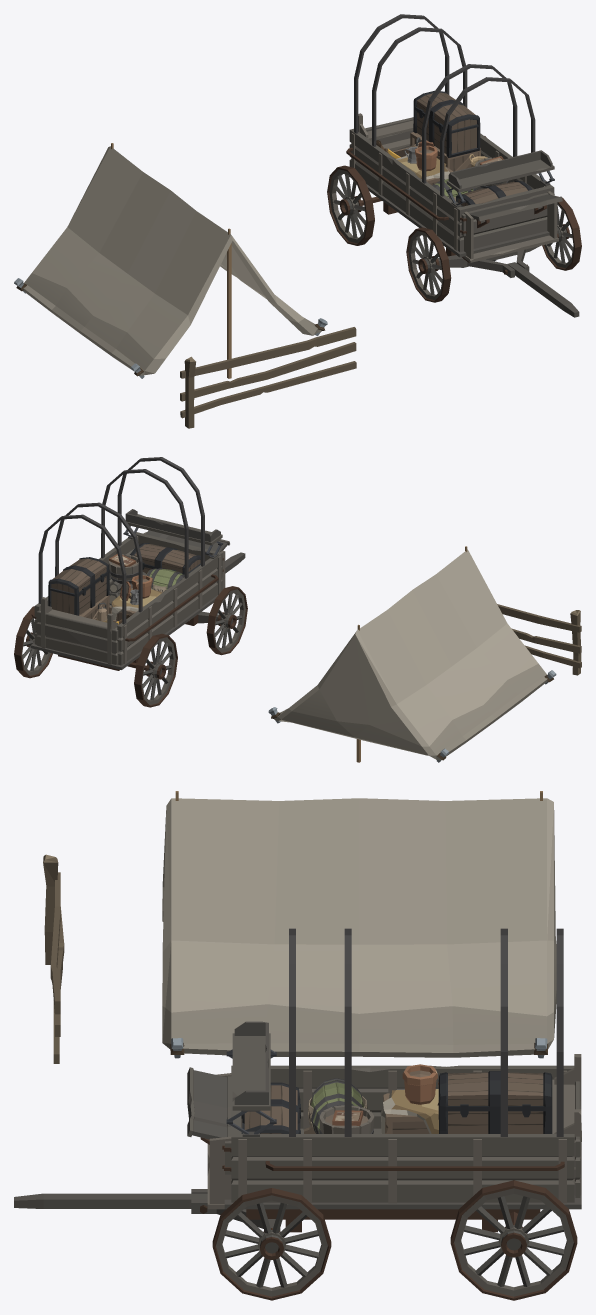
Rendered from stage-original.glb.
3 views of the same model, one above another, from view 1: azimuth 30°, elevation 25°; view 2: azimuth 150°, elevation 25°; view 3: azimuth 270°, elevation 25° (orthographic). The views are drawn at different scales.
Parts seen in each view (by area): view 1: frontier_part_0004_4, frontier_part_0161_161, frontier_part_0165_165, town_part_0021_21, frontier_part_0162_162, frontier_part_0166_166, frontier_part_0163_163, frontier_part_0160_160, frontier_part_0159_159; view 2: frontier_part_0004_4, frontier_part_0161_161, frontier_part_0165_165, frontier_part_0159_159, frontier_part_0162_162, town_part_0021_21, frontier_part_0166_166, frontier_part_0164_164; view 3: frontier_part_0004_4, frontier_part_0161_161, frontier_part_0165_165, frontier_part_0164_164, frontier_part_0160_160, frontier_part_0163_163, town_part_0021_21, frontier_part_0159_159.
Part boxes in pixels (x1,y1,x2,y2): frontier_part_0004_4: (14, 143, 327, 378); frontier_part_0161_161: (346, 14, 562, 262); frontier_part_0165_165: (376, 90, 531, 206); town_part_0021_21: (180, 327, 356, 428); frontier_part_0162_162: (327, 165, 374, 245); frontier_part_0166_166: (406, 227, 451, 302); frontier_part_0163_163: (438, 246, 579, 317); frontier_part_0160_160: (542, 196, 581, 270); frontier_part_0159_159: (358, 113, 413, 151); frontier_part_0004_4: (268, 546, 556, 762); frontier_part_0161_161: (30, 457, 229, 670); frontier_part_0165_165: (48, 543, 200, 640); frontier_part_0159_159: (36, 597, 118, 664); frontier_part_0162_162: (134, 633, 177, 707); town_part_0021_21: (497, 604, 581, 675); frontier_part_0166_166: (206, 586, 247, 655); frontier_part_0164_164: (14, 606, 52, 678); frontier_part_0004_4: (162, 791, 556, 1058); frontier_part_0161_161: (187, 928, 581, 1232); frontier_part_0165_165: (241, 1064, 552, 1133); frontier_part_0164_164: (450, 1180, 577, 1300); frontier_part_0160_160: (212, 1188, 331, 1300); frontier_part_0163_163: (14, 1189, 280, 1230); town_part_0021_21: (43, 854, 64, 1063); frontier_part_0159_159: (552, 1054, 581, 1197).
Size of the model in its own units: 8.66 by 3.58 by 5.88.
2 materials, 2 textured.
